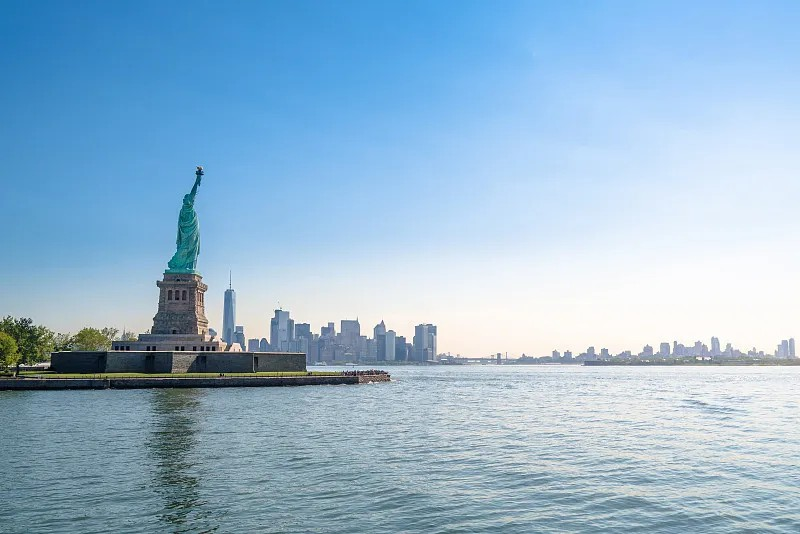SL: (151, 166, 209, 336)
